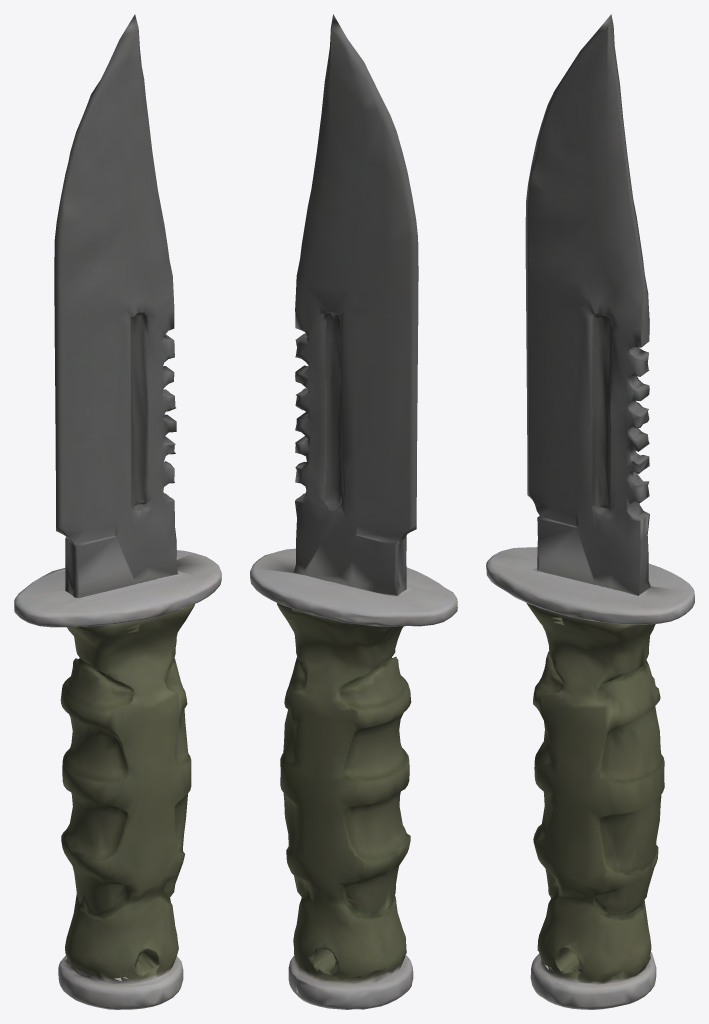
The model's file is tactical.glb.
3 renders of one model, left to right at view 1: azimuth 30°, elevation 25°; view 2: azimuth 150°, elevation 25°; view 3: azimuth 330°, elevation 25°, orthographic.
Visible parts, largest first — view 1: geometry_0; view 2: geometry_0; view 3: geometry_0.
Part boxes in pixels (box(x1,y1,x2,y2)): geometry_0: box(14, 14, 221, 1009); geometry_0: box(250, 14, 457, 1009); geometry_0: box(486, 14, 694, 1009).
Size of the model in its own units: 0.2012 by 0.9502 by 0.1152.
Materials: 1 (1 with a texture image).
